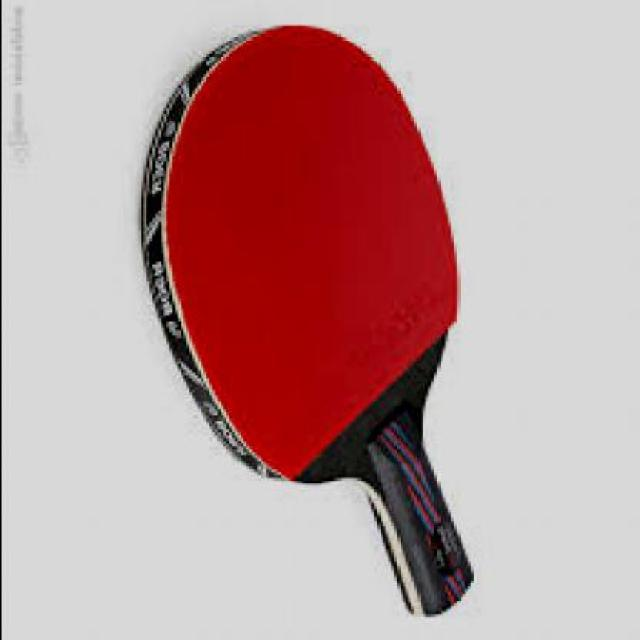table_tennis_racket: (136, 30, 462, 495)
